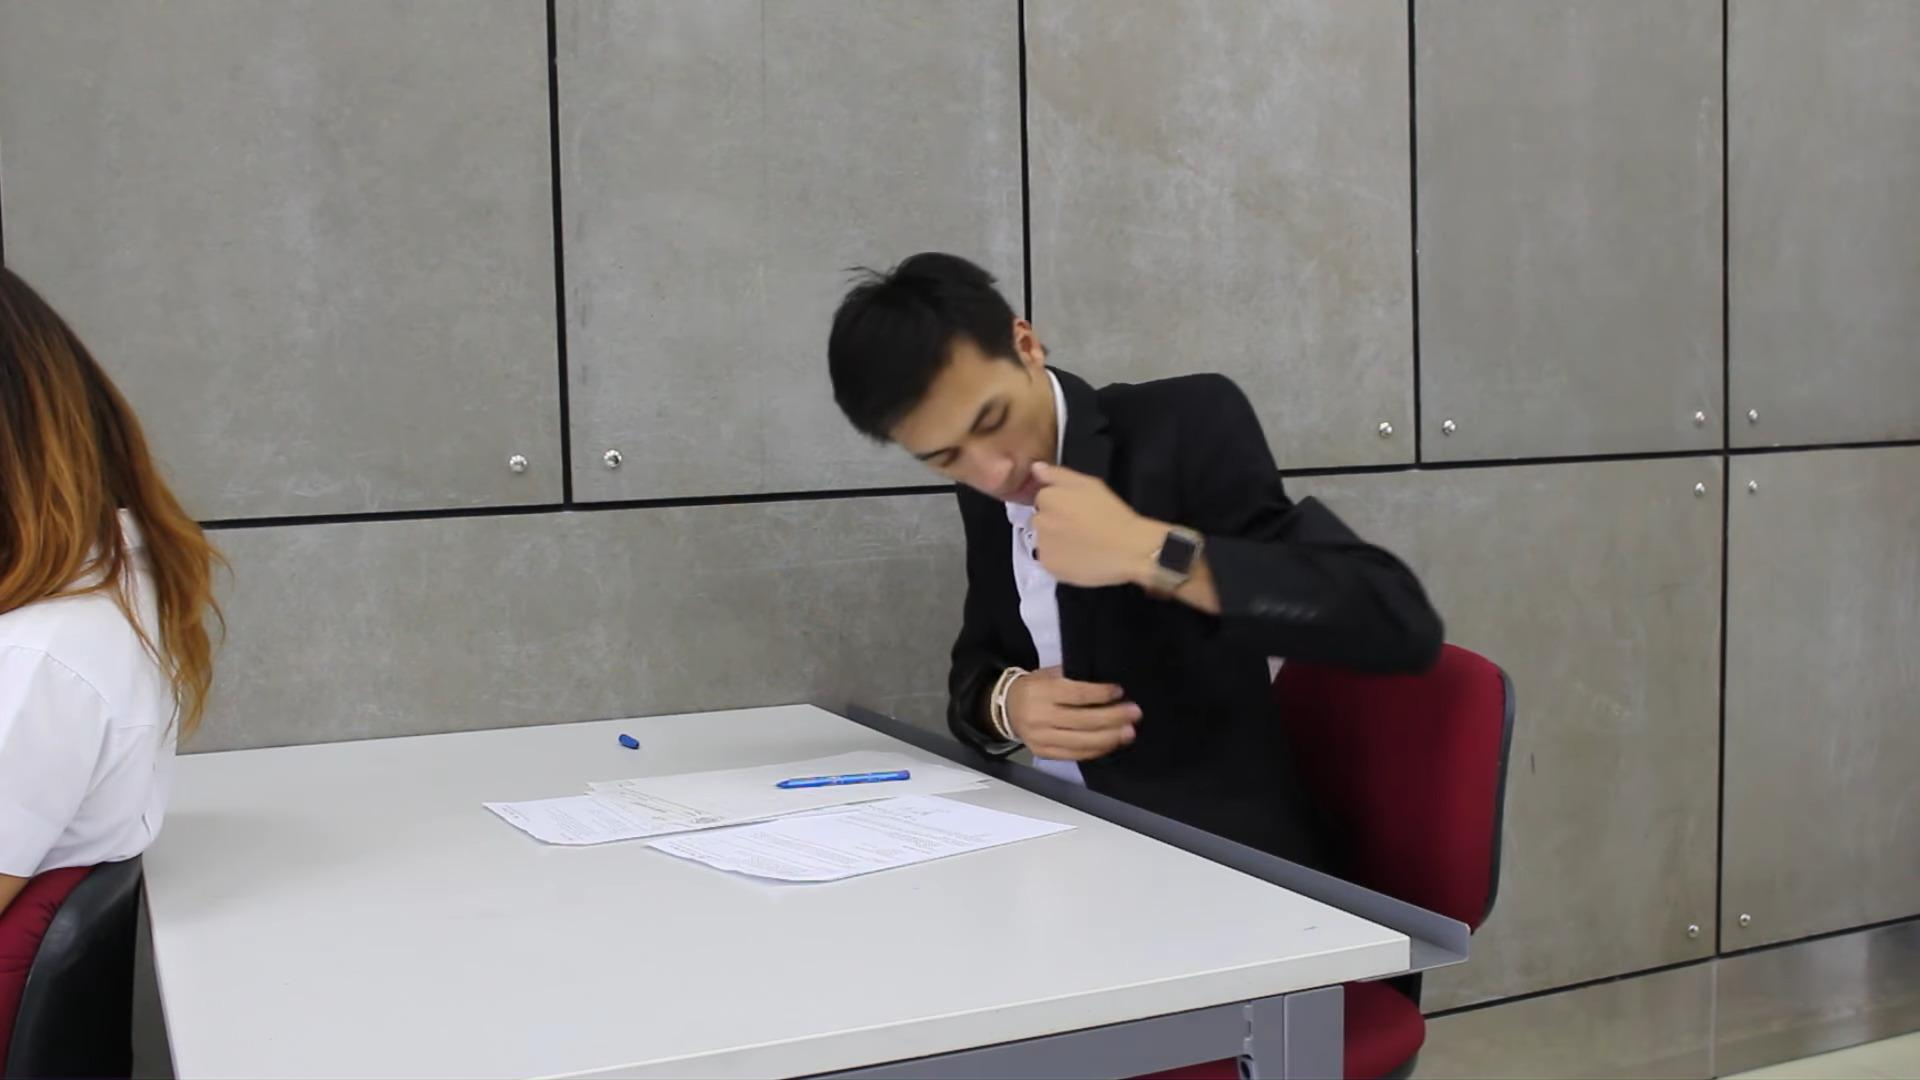cheating: (458, 240, 1476, 919)
